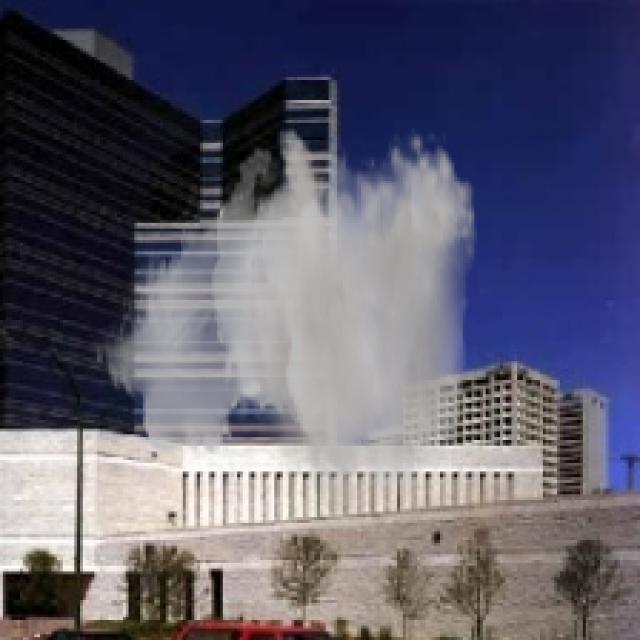smoke: (94, 125, 477, 546)
